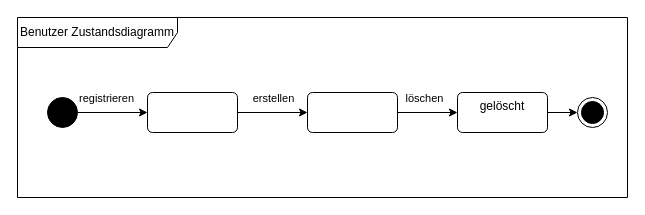
The diagram is 645 pixels wide and 215 high, and some of its shapes have lost their labels. The centre of each missing label's shape, as x and y in pixels:
"erstellt" belongs at point 352,112.
"registriert" belongs at point 192,112.
